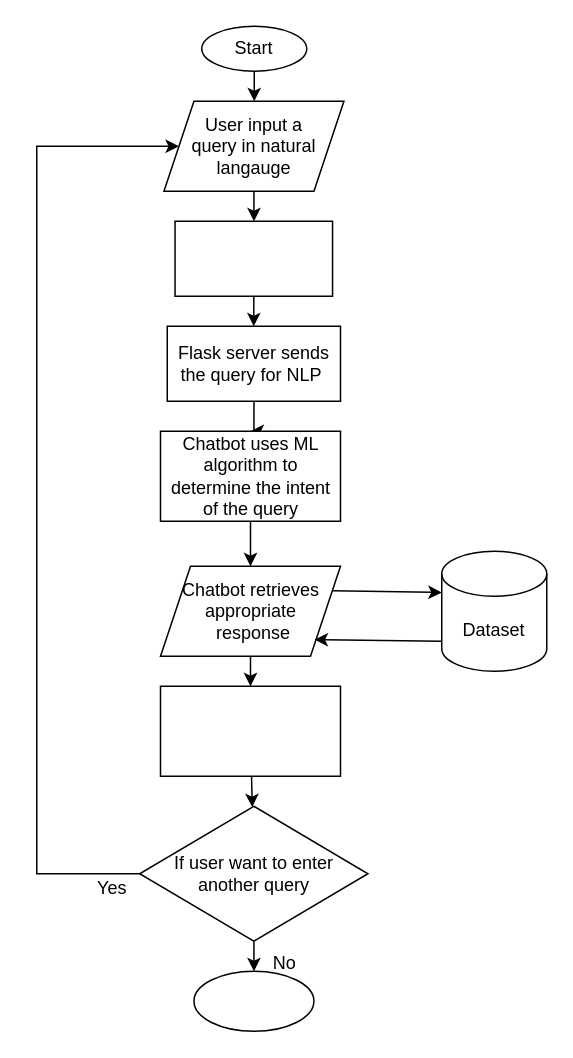
The diagram is 573 pixels wide and 1058 high, and some of its shapes have lost their labels. The centre of each missing label's shape, as x and y in pixels:
"End" belongs at point (253, 1000).
"query send to backend flask server" belongs at point (253, 258).
"Response send to frontend by flask server" belongs at point (249, 730).
